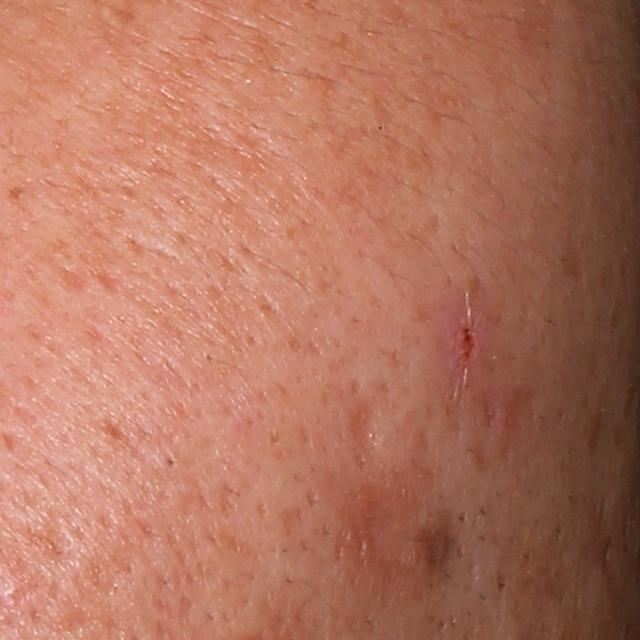atrophic_scar: (355, 485, 428, 572), (49, 580, 106, 637), (349, 393, 387, 466), (495, 387, 538, 437), (215, 478, 240, 522), (304, 481, 320, 508)
comedo: (158, 450, 183, 476)
papule: (451, 318, 484, 371)
